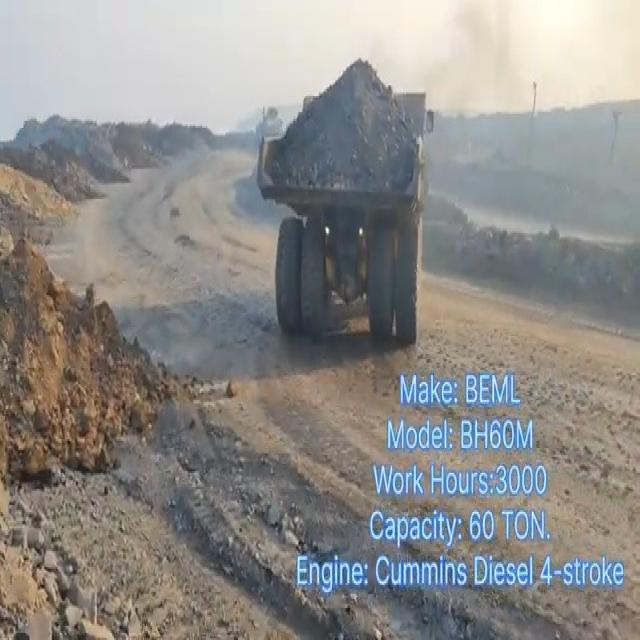dump_truck: (256, 50, 433, 359)
